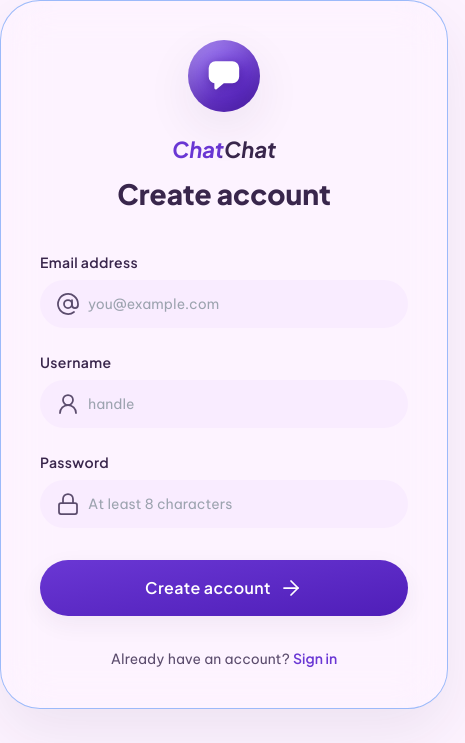
Test: <RegisterPage /> (OWASP V3.1.1 enumeration-safe) › submits to /api/v1/auth/register and renders the "check your inbox" card on 202
Type "new@example.com" into the field labelled "Email address" at (224, 304), box [40,280,408,328]
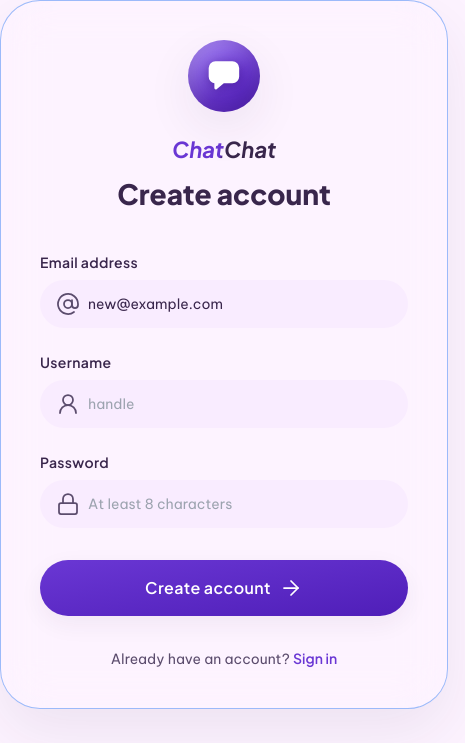
Type "newuser" into the field labelled "Username" at (224, 404), box [40,380,408,428]
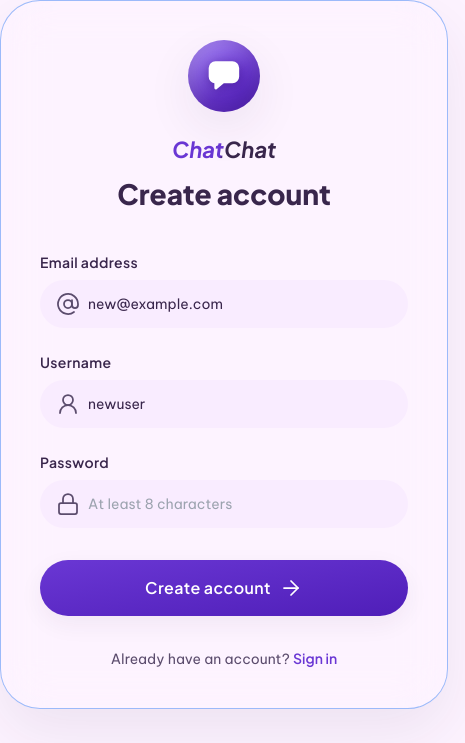
Type "Secret123!" into the password field labelled "Password" at (224, 504), box [40,480,408,528]
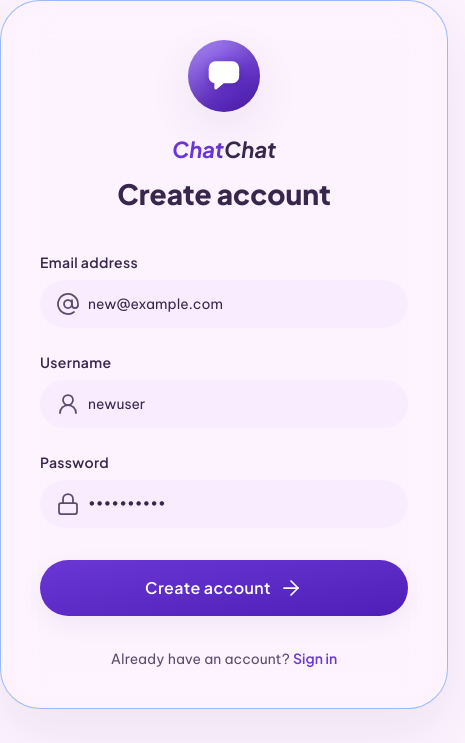
Click the button "Create account" at (224, 588), box [40,560,408,616]
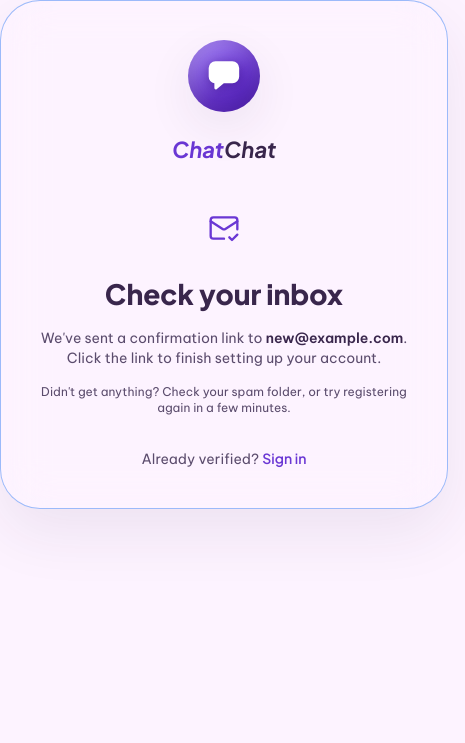
Now the heading "Check your inbox" is shown, box [105,276,343,312]
Now the text "new@example.com" is shown, box [266,329,403,347]
